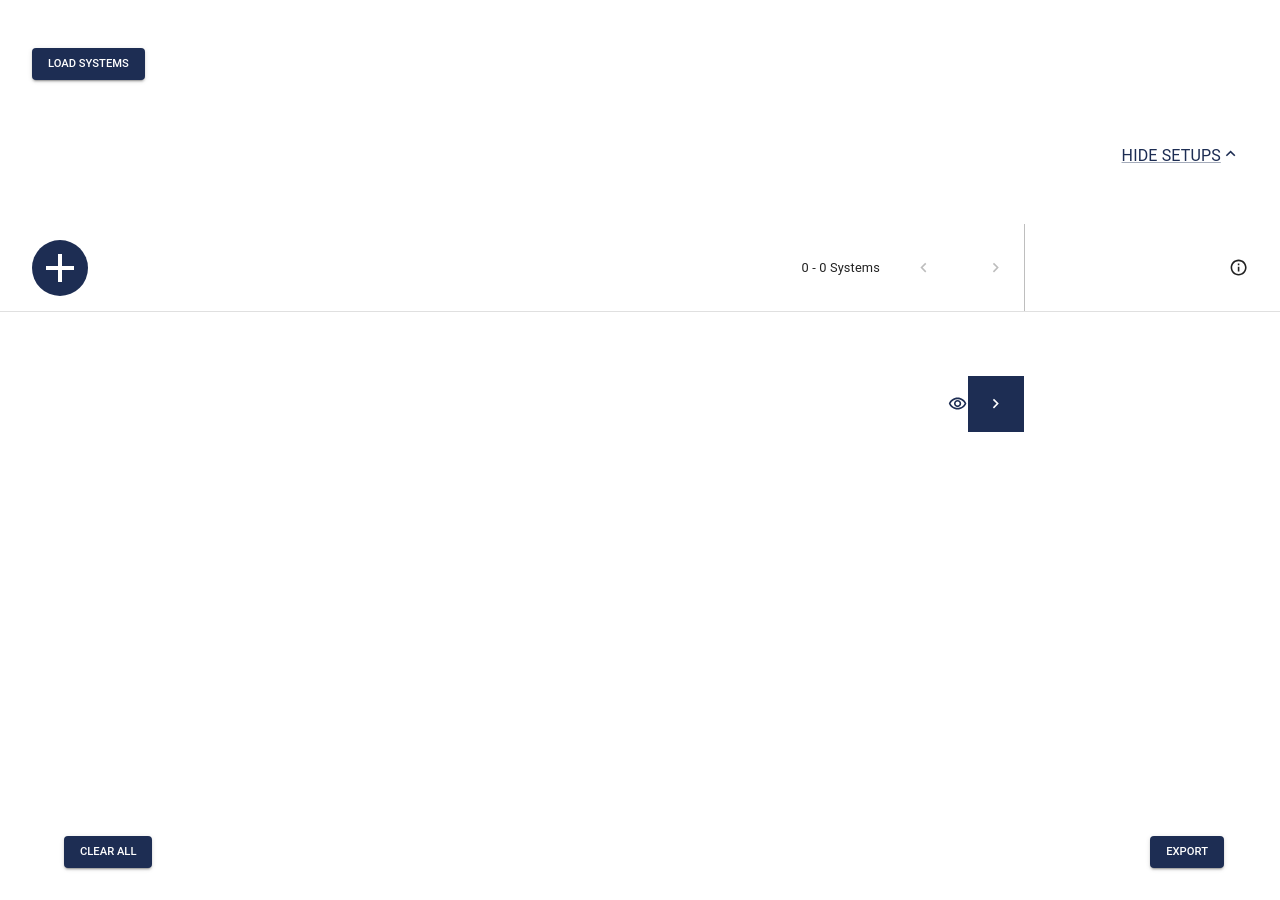
Scenario: System bar and stepper tests › Given User click on Load Systems Button system should load
Click the button with test id "test-id-button-load" at [88, 64], box [32,48,145,80]
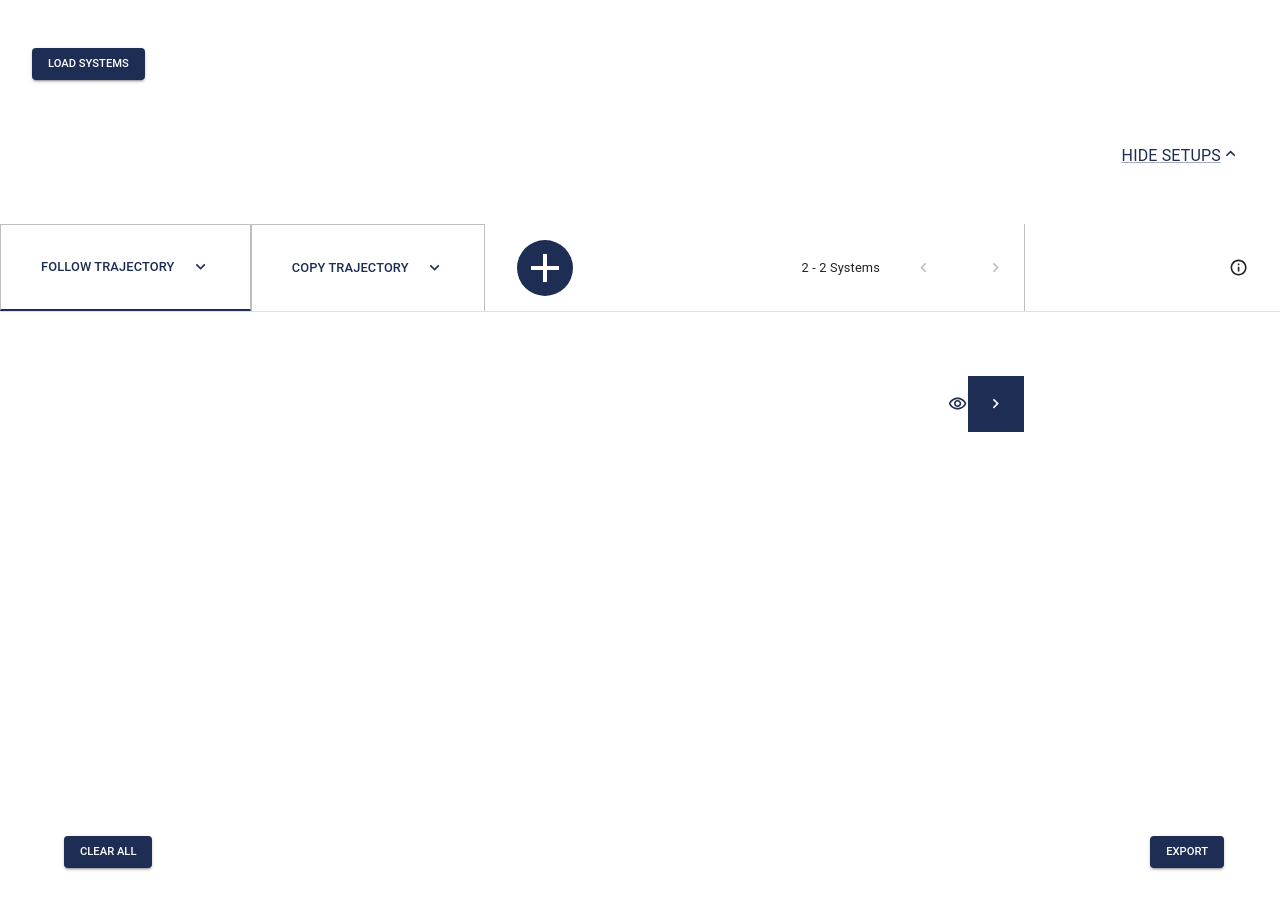
Now the element with test id "test-id-system-1" is shown, box [251,224,485,311]
Now the text "2 - 2 Systems" is shown, box [802,258,880,277]
